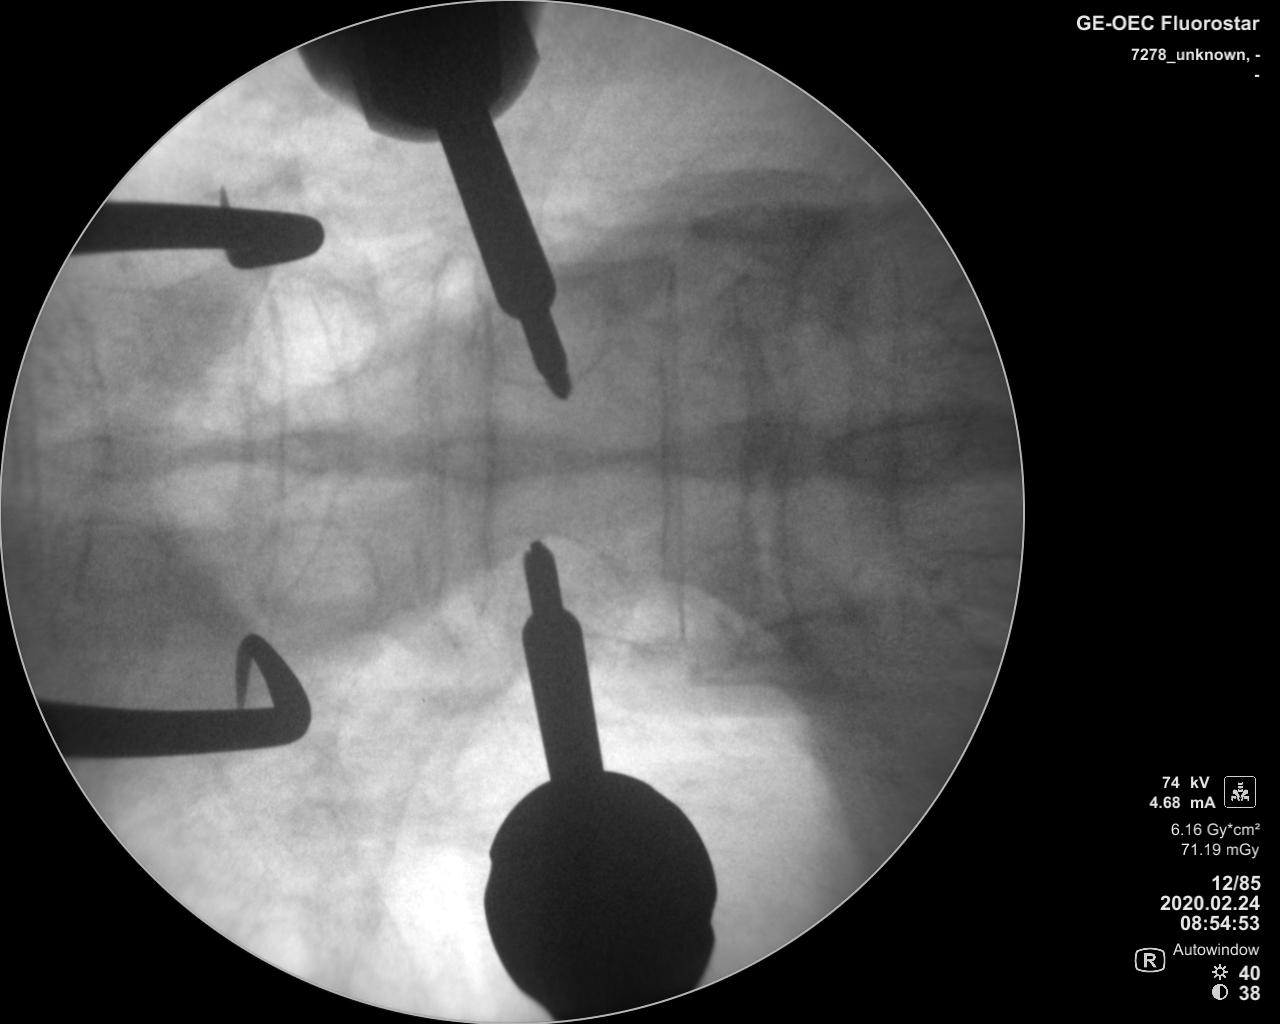eyes: (478, 529, 634, 646), (243, 514, 382, 625), (485, 281, 616, 389), (260, 280, 387, 385)
line: (646, 245, 696, 662), (251, 273, 296, 611), (415, 265, 456, 628), (469, 285, 495, 637)
nose: (632, 415, 821, 495), (822, 411, 971, 487), (415, 425, 592, 488), (47, 421, 203, 485), (232, 419, 373, 487)
